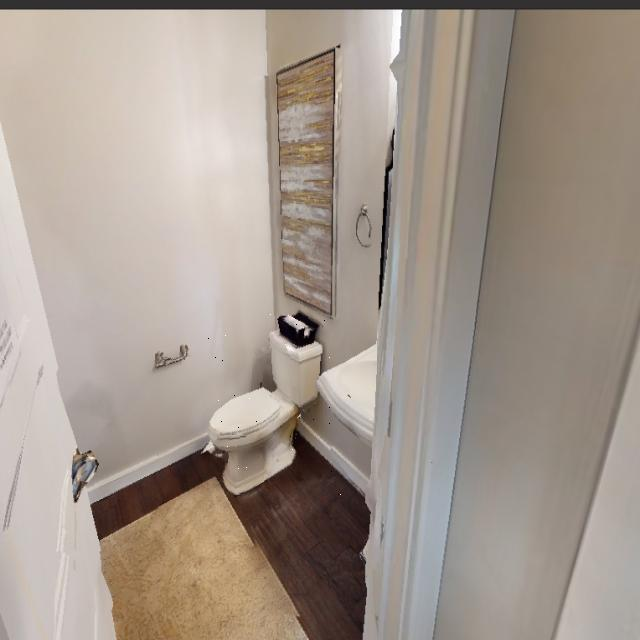toilet: (195, 305, 341, 500)
